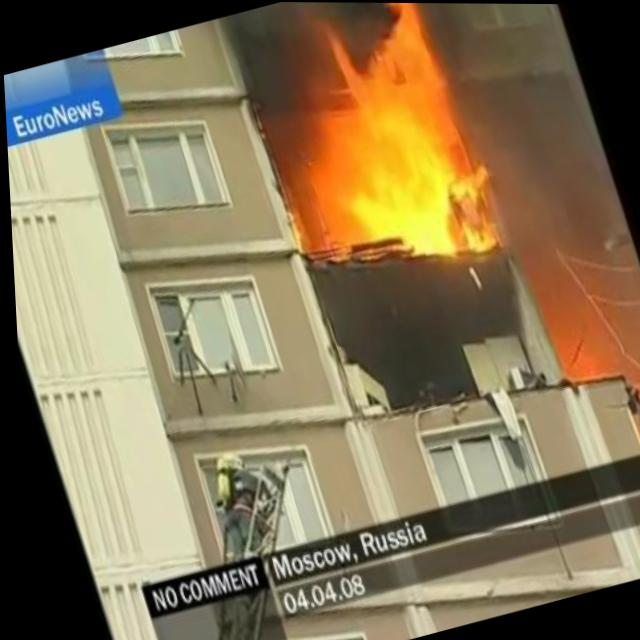fire: (241, 1, 516, 298)
